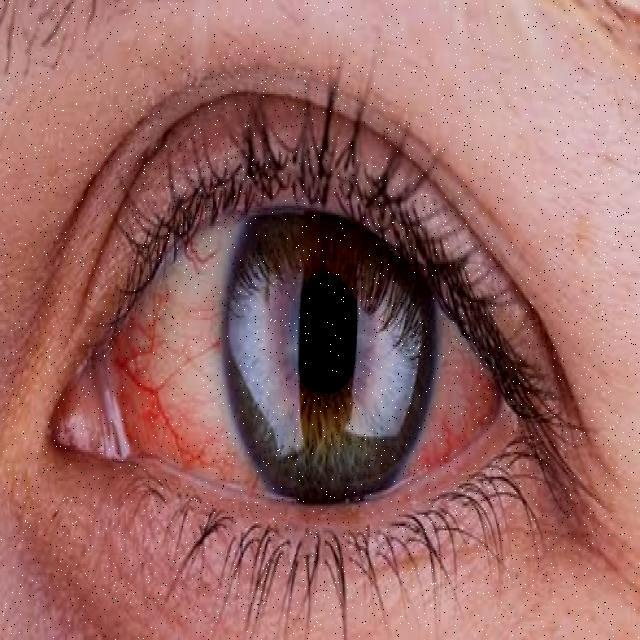Conjunctivitis: (51, 236, 534, 514)
